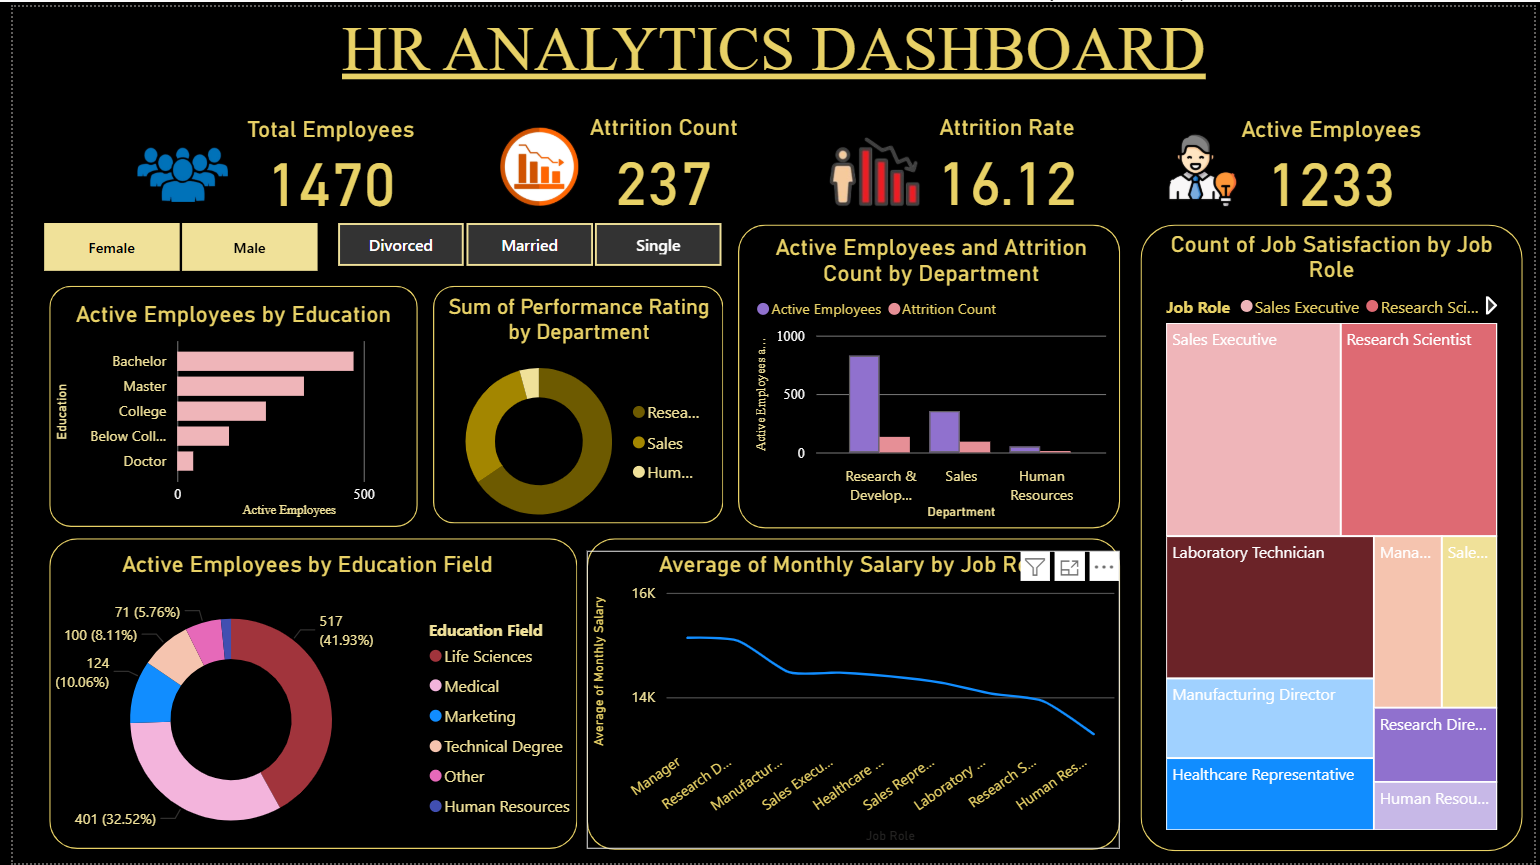

What the dashboard file says about the page in this screenshot:
{"tool":"powerbi","page":{"name":"Dashboard","canvas":[1280,720],"ordinal":0},"visuals":[{"type":"image","box":[621.4,51.4,242.9,172.9],"z":1000},{"type":"shape","box":[30,234.3,310,202.9],"z":2000},{"type":"shape","box":[483,447.3,448.7,262.1],"z":3000},{"type":"textbox","box":[0,0,1280,103.8],"z":4000},{"type":"card","title":"Total Employees","fields":{"Values":["CountNonNull(WA_Fn-UseC_-HR-Employee-Attrition.EmployeeNumber)"]},"box":[174.3,91.4,185.7,82.9],"z":5000},{"type":"card","title":"Attrition Count","fields":{"Values":["WA_Fn-UseC_-HR-Employee-Attrition.Attrition Count"]},"box":[455.7,90,184.3,82.9],"z":6000},{"type":"card","title":"Attrition Rate","fields":{"Values":["WA_Fn-UseC_-HR-Employee-Attrition.Attrition Rate"]},"box":[742.9,90,185.7,82.9],"z":7000},{"type":"card","title":"Active Employees","fields":{"Values":["WA_Fn-UseC_-HR-Employee-Attrition.working count"]},"box":[1017.1,91.4,184.3,82.9],"z":8000},{"type":"slicer","fields":{"Values":["WA_Fn-UseC_-HR-Employee-Attrition.Gender"]},"box":[0,174.3,280,54.3],"z":9000},{"type":"slicer","fields":{"Values":["WA_Fn-UseC_-HR-Employee-Attrition.Marital Status"]},"box":[247.1,174.3,372.9,50],"z":10000},{"type":"shape","box":[610,182.9,321.4,255.7],"z":11000},{"type":"shape","box":[948.6,182.9,321.4,527.1],"z":12000},{"type":"clusteredColumnChart","fields":{"Category":["WA_Fn-UseC_-HR-Employee-Attrition.Department"],"Y":["WA_Fn-UseC_-HR-Employee-Attrition.working count","WA_Fn-UseC_-HR-Employee-Attrition.Attrition Count"]},"box":[620,191.4,304.3,244.3],"z":13000},{"type":"shape","box":[30,447.1,444.3,261.4],"z":14000},{"type":"donutChart","fields":{"Y":["WA_Fn-UseC_-HR-Employee-Attrition.Active Employees"],"Category":["WA_Fn-UseC_-HR-Employee-Attrition.Education Field"]},"box":[12.9,457.1,470,262.9],"z":15000},{"type":"barChart","fields":{"Category":["WA_Fn-UseC_-HR-Employee-Attrition.Education"],"Y":["WA_Fn-UseC_-HR-Employee-Attrition.Active Employees"]},"box":[30,247.1,310,187.1],"z":16000},{"type":"treemap","fields":{"Group":["WA_Fn-UseC_-HR-Employee-Attrition.Job Role"],"Values":["CountNonNull(WA_Fn-UseC_-HR-Employee-Attrition.Job Satisfaction)"]},"box":[964.7,188,288.2,509.1],"z":17000},{"type":"lineChart","fields":{"Y":["Avg(WA_Fn-UseC_-HR-Employee-Attrition.Monthly Salary)"],"Category":["WA_Fn-UseC_-HR-Employee-Attrition.Job Role"]},"box":[483,456.9,448.7,251.1],"z":18000},{"type":"shape","box":[352.9,234.3,244.3,200],"z":19000},{"type":"donutChart","fields":{"Y":["Sum(WA_Fn-UseC_-HR-Employee-Attrition.Performance Rating)"],"Category":["WA_Fn-UseC_-HR-Employee-Attrition.Department"]},"box":[360,241.4,232.9,205.7],"z":20000},{"type":"image","box":[964.3,101.4,72.9,72.9],"z":21000},{"type":"image","box":[402.9,97.1,80,75.7],"z":22000},{"type":"image","box":[100,97.1,85.7,88.6],"z":23000}]}

Visuals, with their boxes in screenshot pixels (x1, y1, x2, y2), scaled from the page's 1280x720 canvas onto the 1540x865 screenshot:
image: {"x1": 748, "y1": 62, "x2": 1040, "y2": 269}
shape: {"x1": 36, "y1": 281, "x2": 409, "y2": 525}
shape: {"x1": 581, "y1": 537, "x2": 1121, "y2": 852}
textbox: {"x1": 0, "y1": 0, "x2": 1539, "y2": 125}
"Total Employees" card: {"x1": 210, "y1": 110, "x2": 433, "y2": 209}
"Attrition Count" card: {"x1": 548, "y1": 108, "x2": 770, "y2": 208}
"Attrition Rate" card: {"x1": 894, "y1": 108, "x2": 1117, "y2": 208}
"Active Employees" card: {"x1": 1224, "y1": 110, "x2": 1445, "y2": 209}
slicer - WA_Fn-UseC_-HR-Employee-Attrition.Gender: {"x1": 0, "y1": 209, "x2": 337, "y2": 275}
slicer - WA_Fn-UseC_-HR-Employee-Attrition.Marital Status: {"x1": 297, "y1": 209, "x2": 746, "y2": 269}
shape: {"x1": 734, "y1": 220, "x2": 1121, "y2": 527}
shape: {"x1": 1141, "y1": 220, "x2": 1528, "y2": 853}
clusteredColumnChart - WA_Fn-UseC_-HR-Employee-Attrition.Department x WA_Fn-UseC_-HR-Employee-Attrition.working count: {"x1": 746, "y1": 230, "x2": 1112, "y2": 523}
shape: {"x1": 36, "y1": 537, "x2": 571, "y2": 851}
donutChart - WA_Fn-UseC_-HR-Employee-Attrition.Active Employees x WA_Fn-UseC_-HR-Employee-Attrition.Education Field: {"x1": 16, "y1": 549, "x2": 581, "y2": 864}
barChart - WA_Fn-UseC_-HR-Employee-Attrition.Education x WA_Fn-UseC_-HR-Employee-Attrition.Active Employees: {"x1": 36, "y1": 297, "x2": 409, "y2": 522}
treemap - WA_Fn-UseC_-HR-Employee-Attrition.Job Role x CountNonNull(WA_Fn-UseC_-HR-Employee-Attrition.Job Satisfaction): {"x1": 1161, "y1": 226, "x2": 1507, "y2": 837}
lineChart - Avg(WA_Fn-UseC_-HR-Employee-Attrition.Monthly Salary) x WA_Fn-UseC_-HR-Employee-Attrition.Job Role: {"x1": 581, "y1": 549, "x2": 1121, "y2": 851}
shape: {"x1": 425, "y1": 281, "x2": 719, "y2": 522}
donutChart - Sum(WA_Fn-UseC_-HR-Employee-Attrition.Performance Rating) x WA_Fn-UseC_-HR-Employee-Attrition.Department: {"x1": 433, "y1": 290, "x2": 713, "y2": 537}
image: {"x1": 1160, "y1": 122, "x2": 1248, "y2": 209}
image: {"x1": 485, "y1": 117, "x2": 581, "y2": 208}
image: {"x1": 120, "y1": 117, "x2": 223, "y2": 223}
